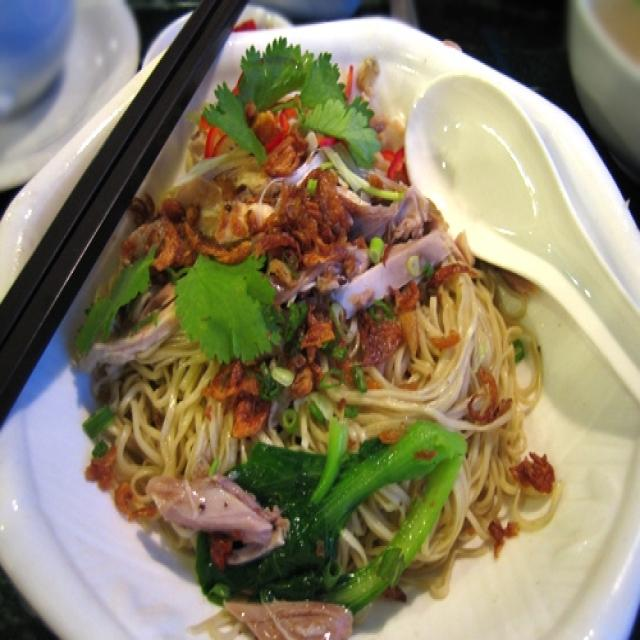面条主食: (32, 36, 599, 613)
